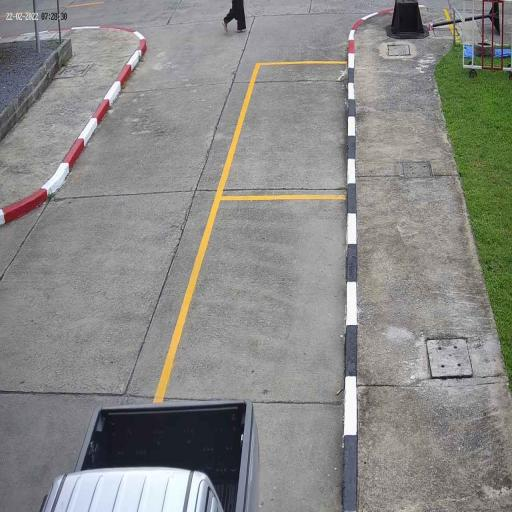car: (38, 398, 262, 512)
